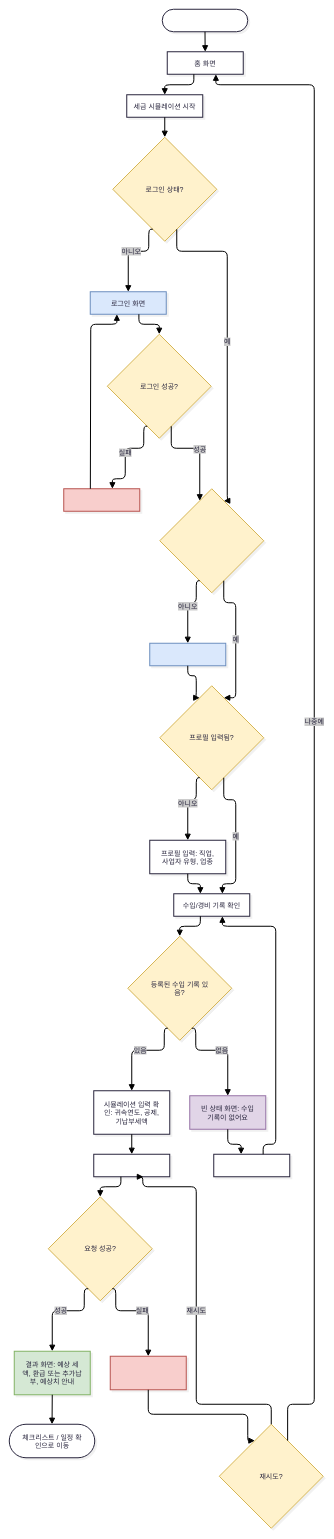
Image size: 334x1539. Some labels were removed from this diagram. The shapes that lost their labels are listed below. From the top down, each one's centre as x and y in pixels, then its label:
At point 206,21: "앱 진입".
At point 102,501: "오류 안내 후 재시도".
At point 212,541: "필수 동의 완료?".
At point 188,655: "약관 동의 화면".
At point 132,1166: "계산 요청".
At point 252,1166: "수입 등록 화면".
At point 149,1374: "오류 화면: 계산하지 못했어요".
